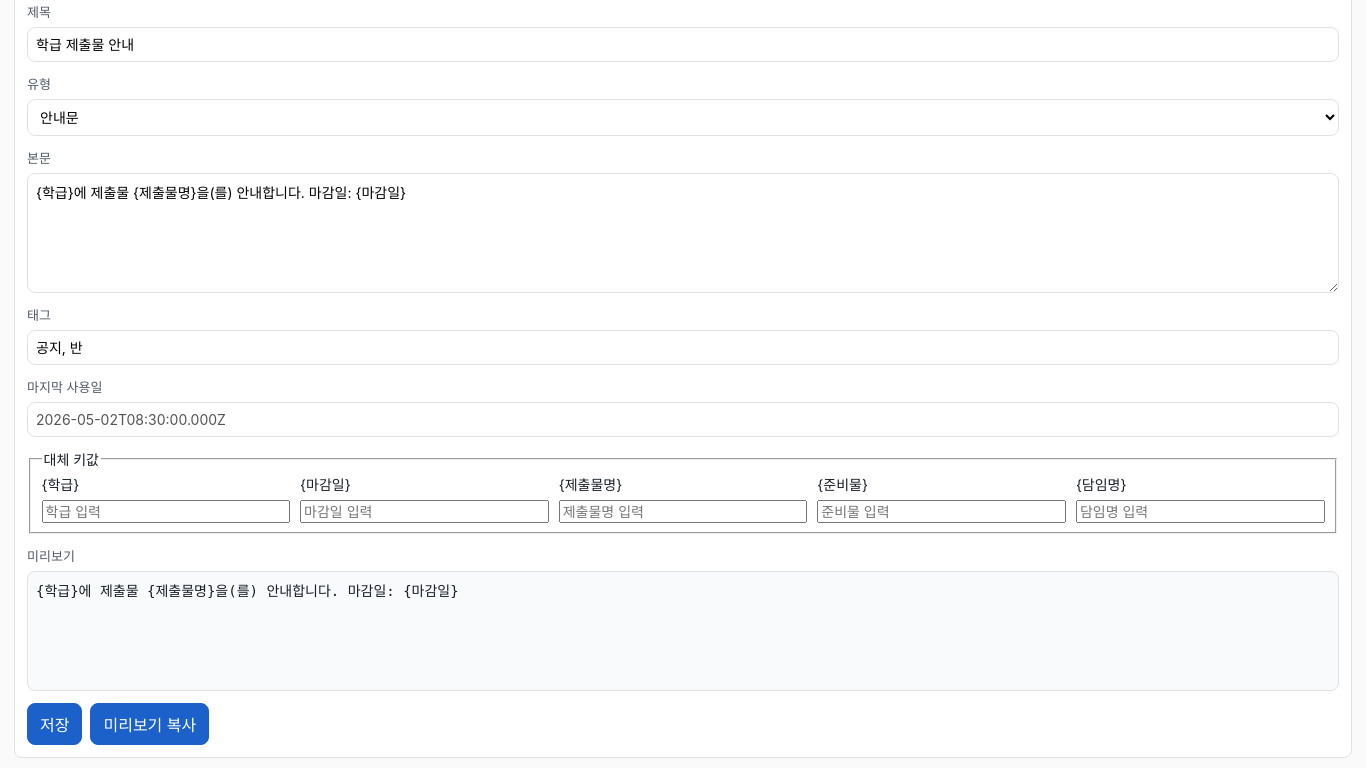
it: TemplatesPage clipboard interactions › disables save and copy while persistence is busy
(page scrolled)
Click the button "저장" at (55, 724), box [27,702,82,744]
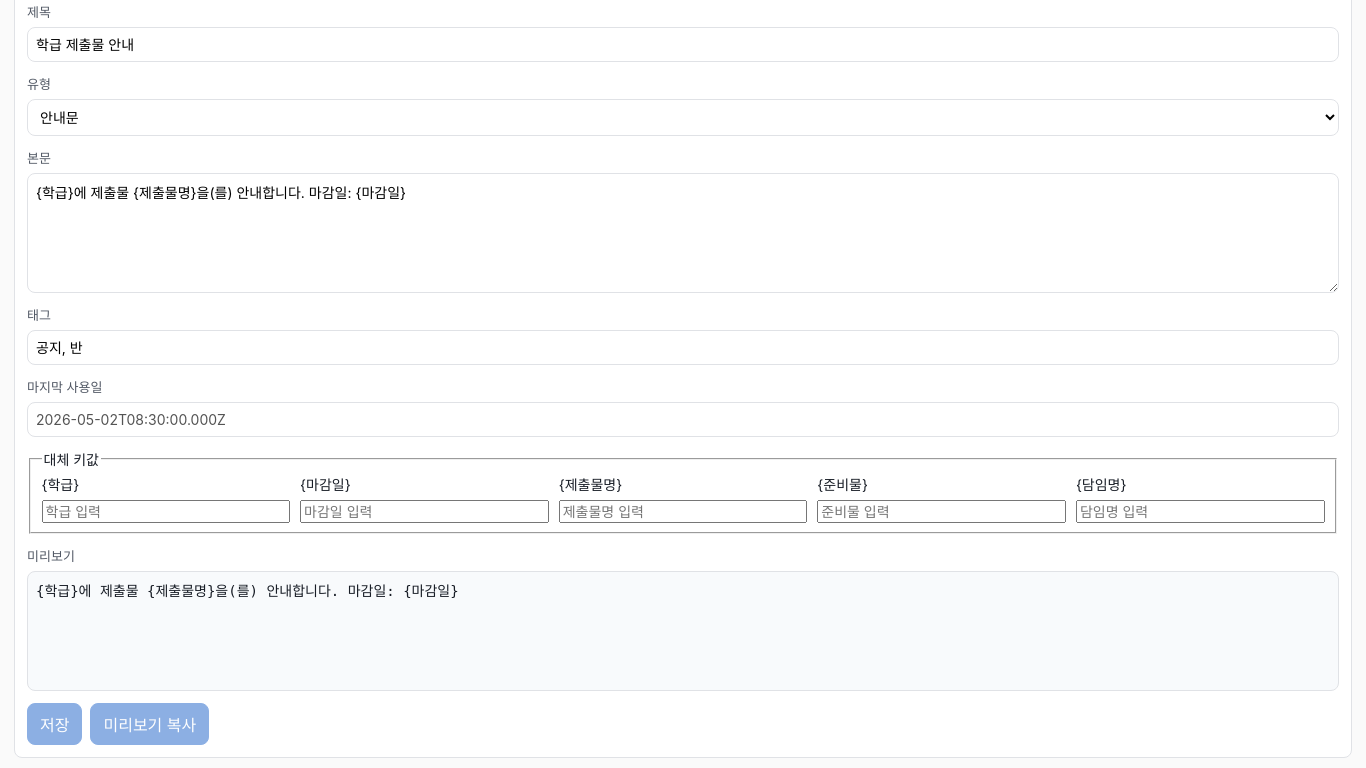
Check: the button "저장" is disabled, box [27,702,82,744]
Check: the button "미리보기 복사" is disabled, box [90,702,209,744]
